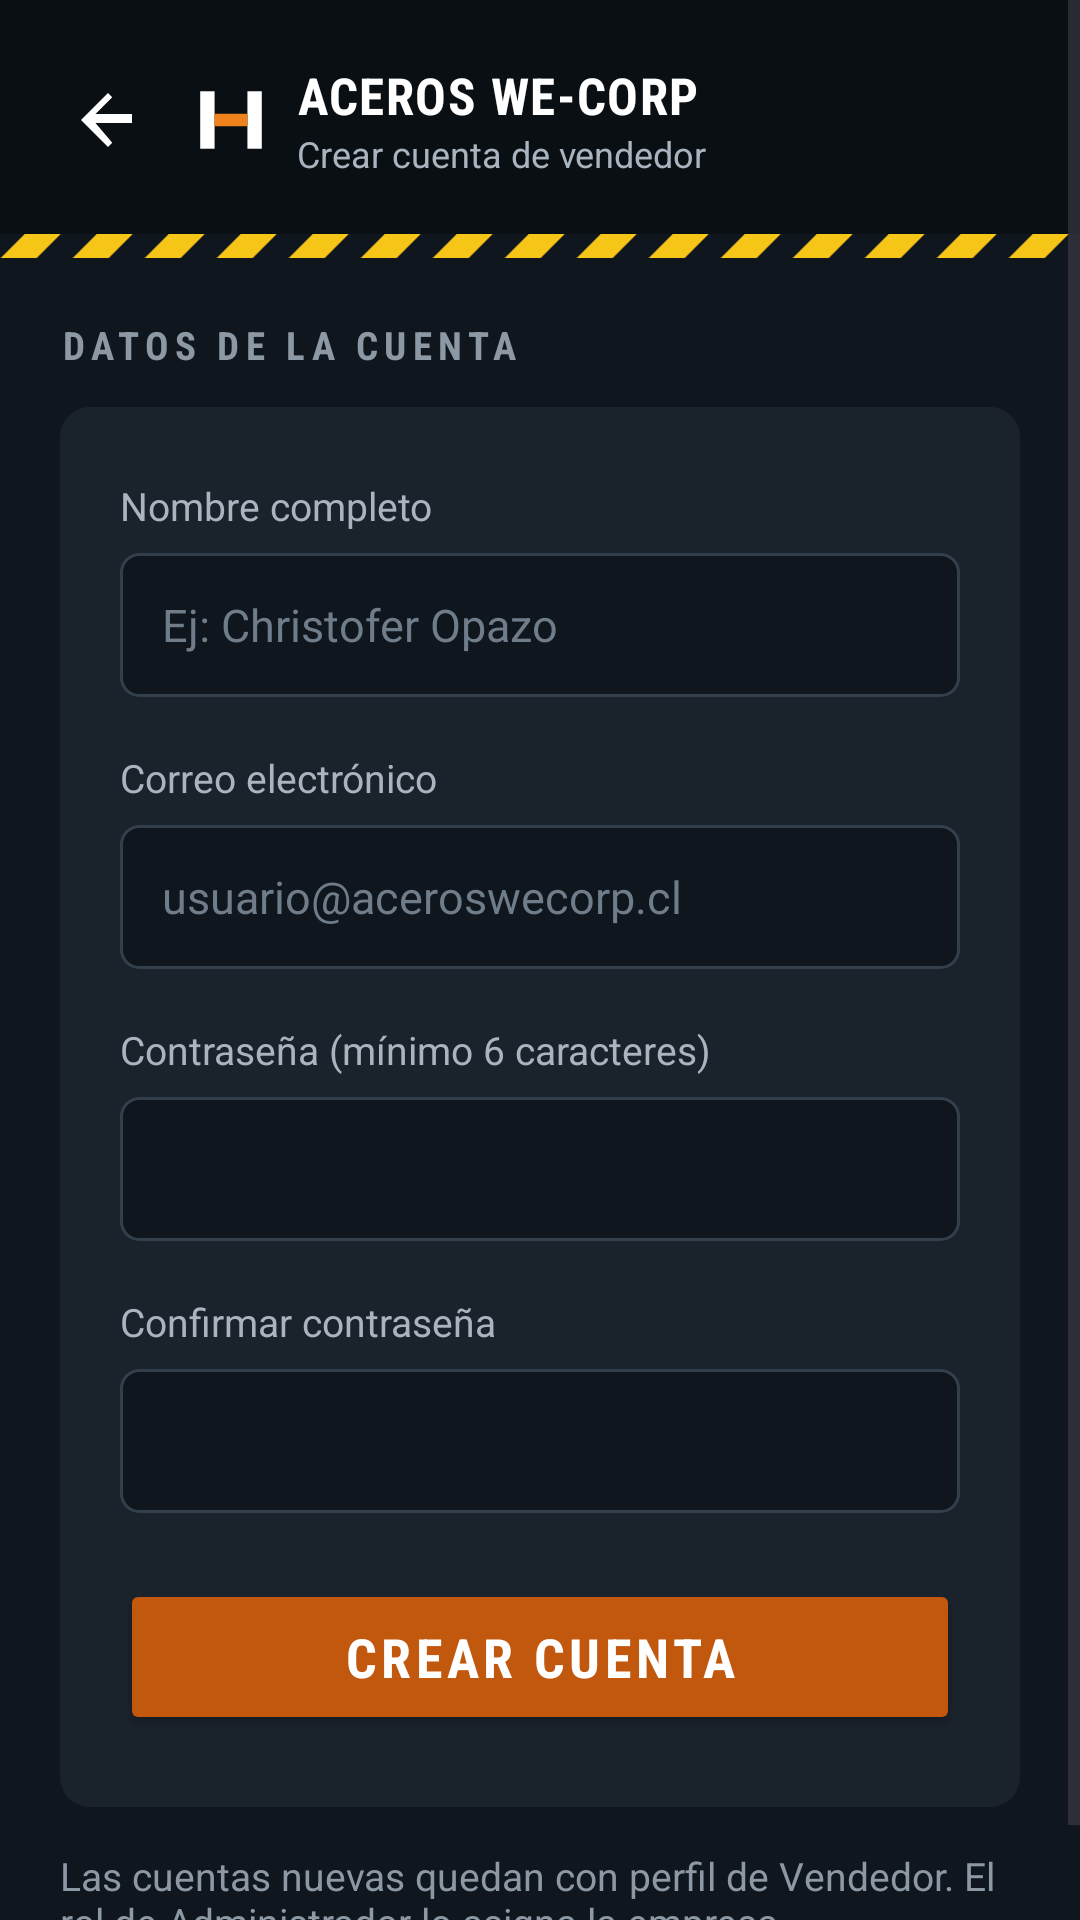

Named icons in this screenshot (1080px×1920px) and their centers, (x=x, y=y):
Volver: (x=106, y=120)
